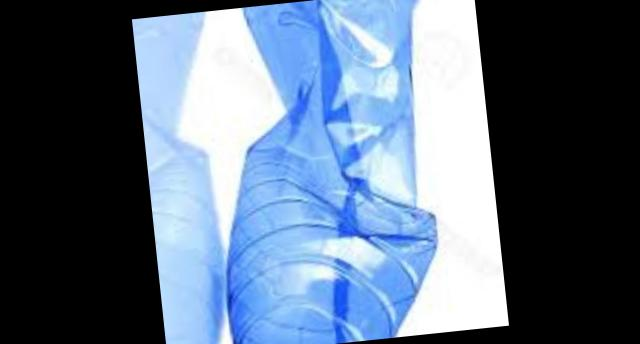plastic: (230, 0, 438, 344)
